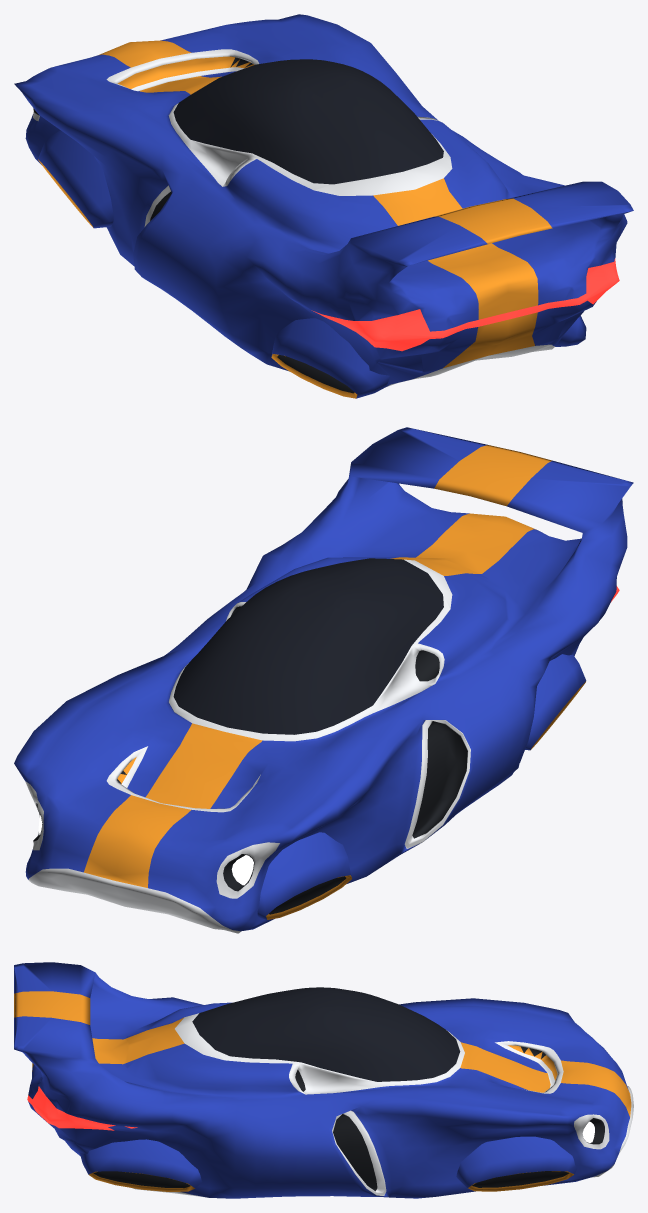
The model's file is r5-delta.glb.
The picture shows the model from 3 angles, top to bottom: view 1: azimuth 30°, elevation 25°; view 2: azimuth 150°, elevation 25°; view 3: azimuth 270°, elevation 25°; orthographic projection. The views are drawn at different scales.
Visible parts, largest first — view 1: Body.001, Canopy, Sockets; view 2: Body.001, Canopy, Sockets; view 3: Body.001, Canopy, Sockets.
Boxes of the visible parts, <box> form: Body.001: <box>14,14,633,386</box>; Canopy: <box>173,59,443,184</box>; Sockets: <box>38,130,586,398</box>; Body.001: <box>14,427,633,933</box>; Canopy: <box>173,558,443,734</box>; Sockets: <box>257,654,586,919</box>; Body.001: <box>14,962,633,1198</box>; Canopy: <box>192,987,460,1081</box>; Sockets: <box>79,1136,577,1191</box>.
Size of the model in its own units: 1.89 by 1.13 by 4.01.
